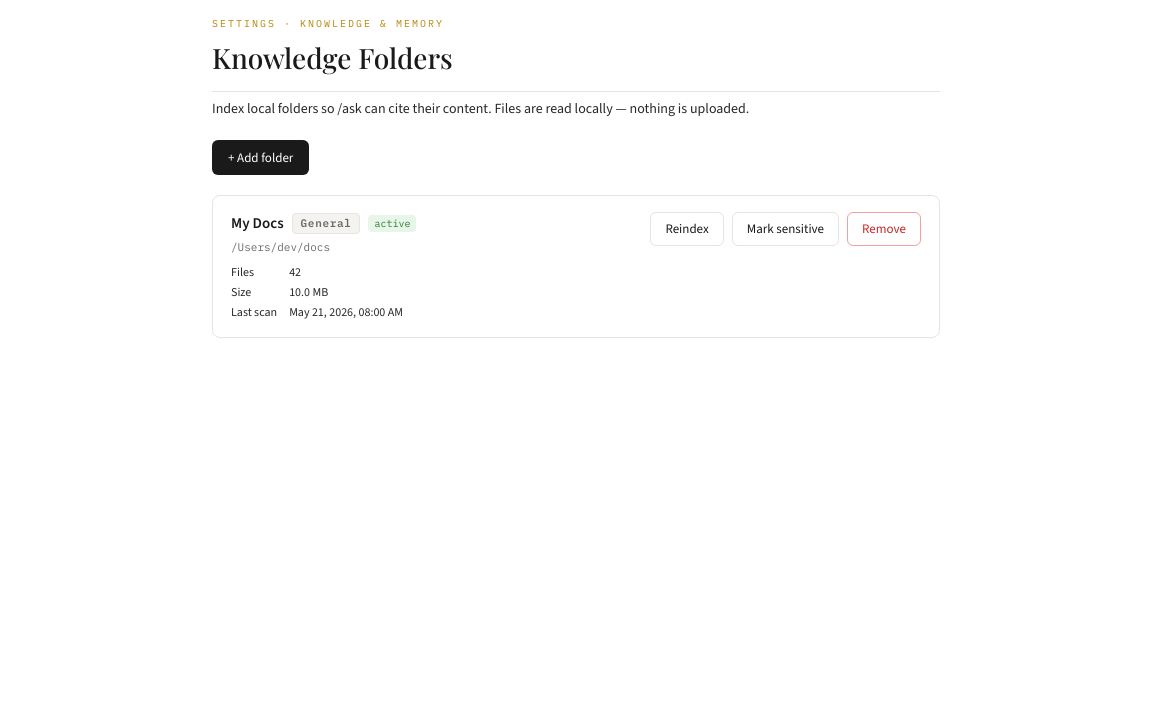
Scenario: KnowledgeFoldersSection — below-threshold add › opens add modal directly when prescan returns exceedsThreshold:false
Check: the text "My Docs" is shown, box [231,212,284,235]
Click the button with test id "kf-add-folder-btn" at (261, 157), box [212,140,309,175]
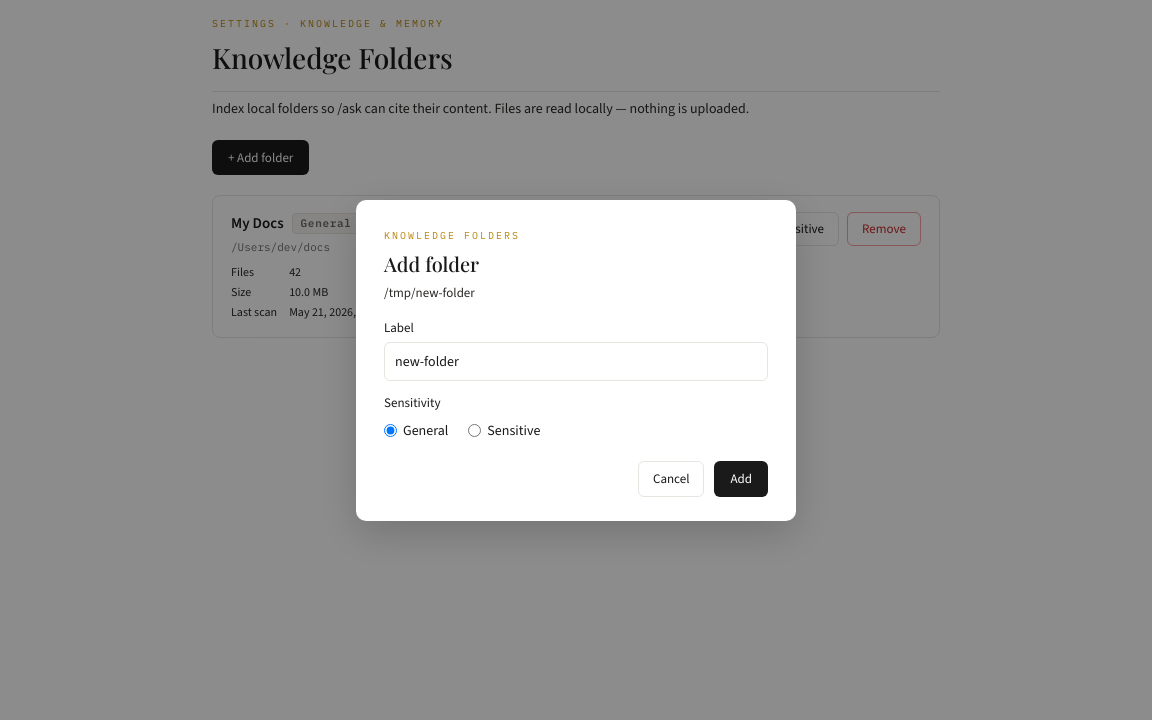
Check: the button with test id "kf-add-submit" is shown, box [714,461,768,496]
